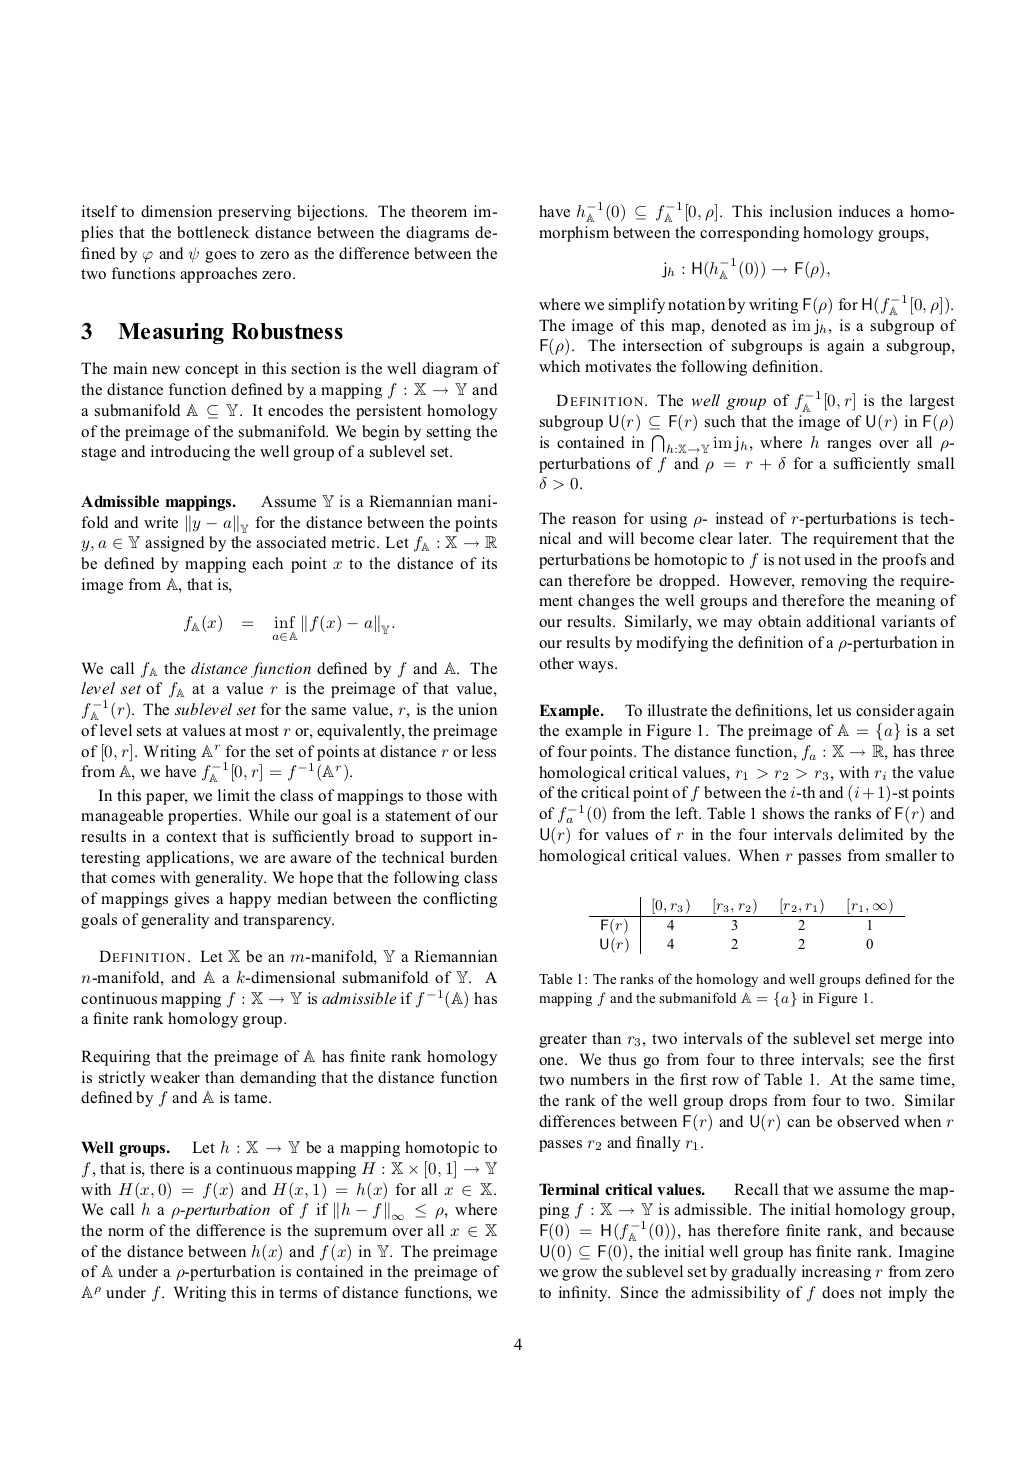Table: (589, 896, 904, 954)
formula: (184, 613, 394, 641), (662, 257, 829, 279)
